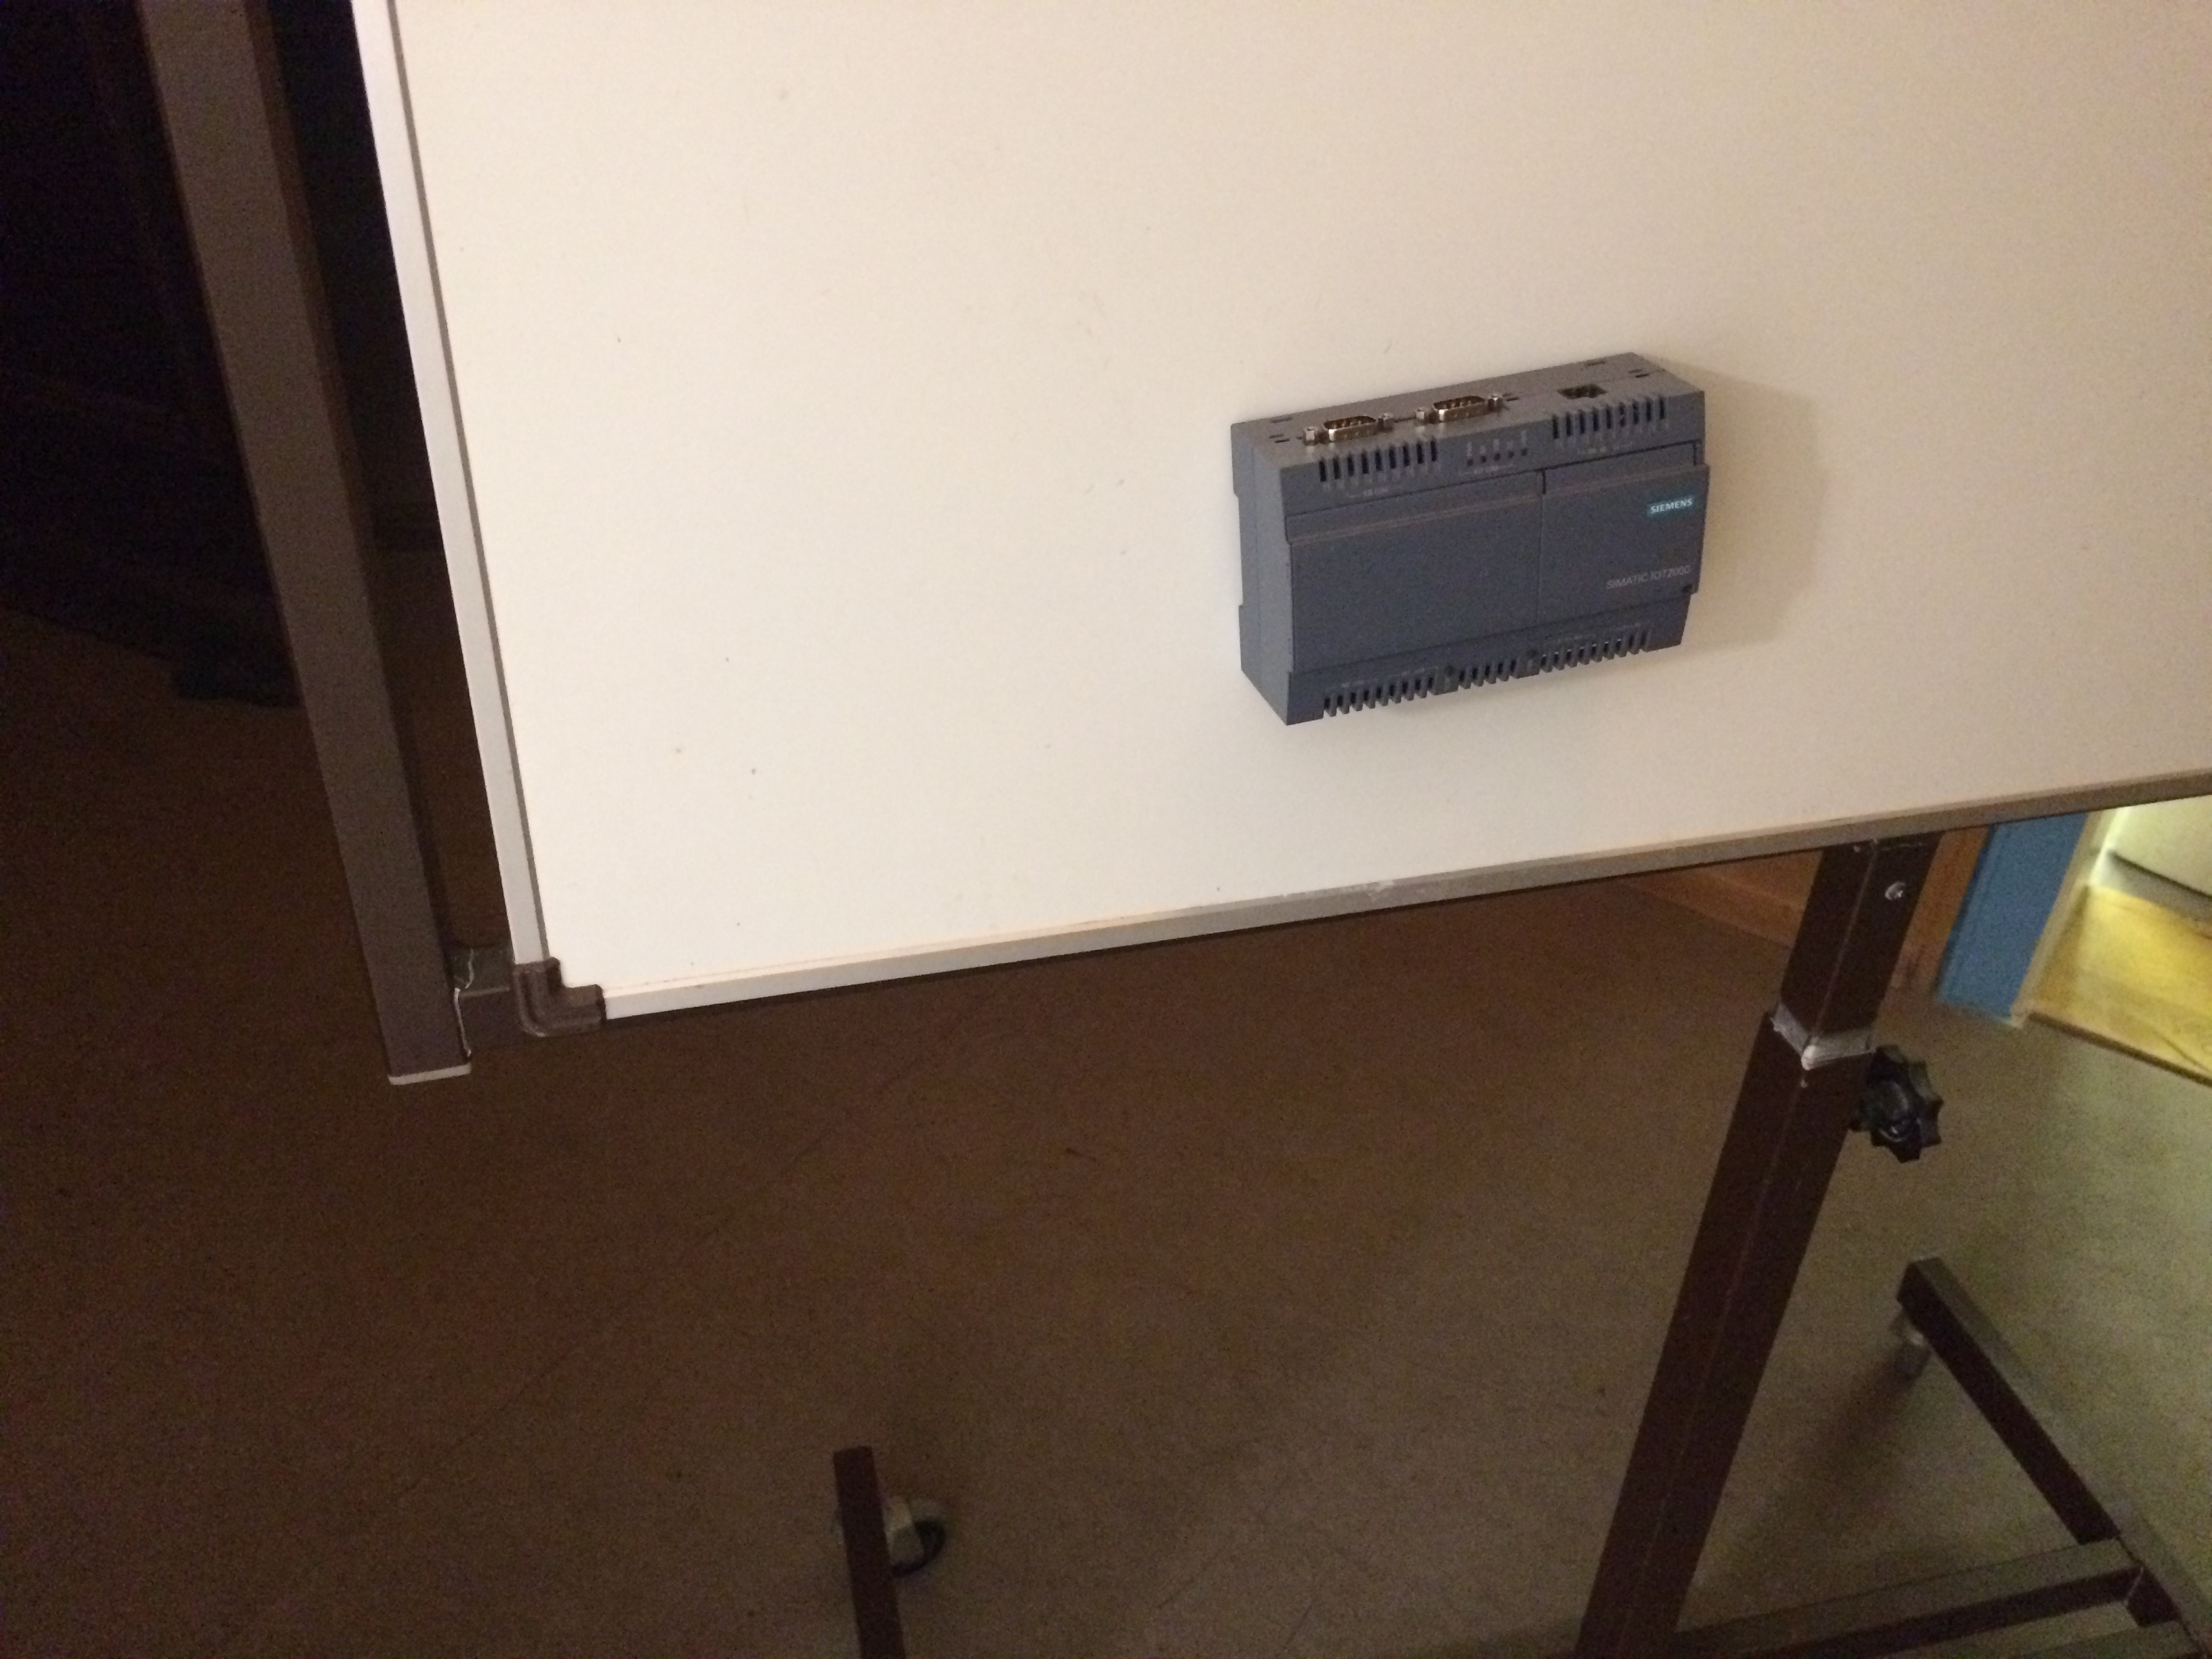iot2000: (1228, 349, 1714, 732)
